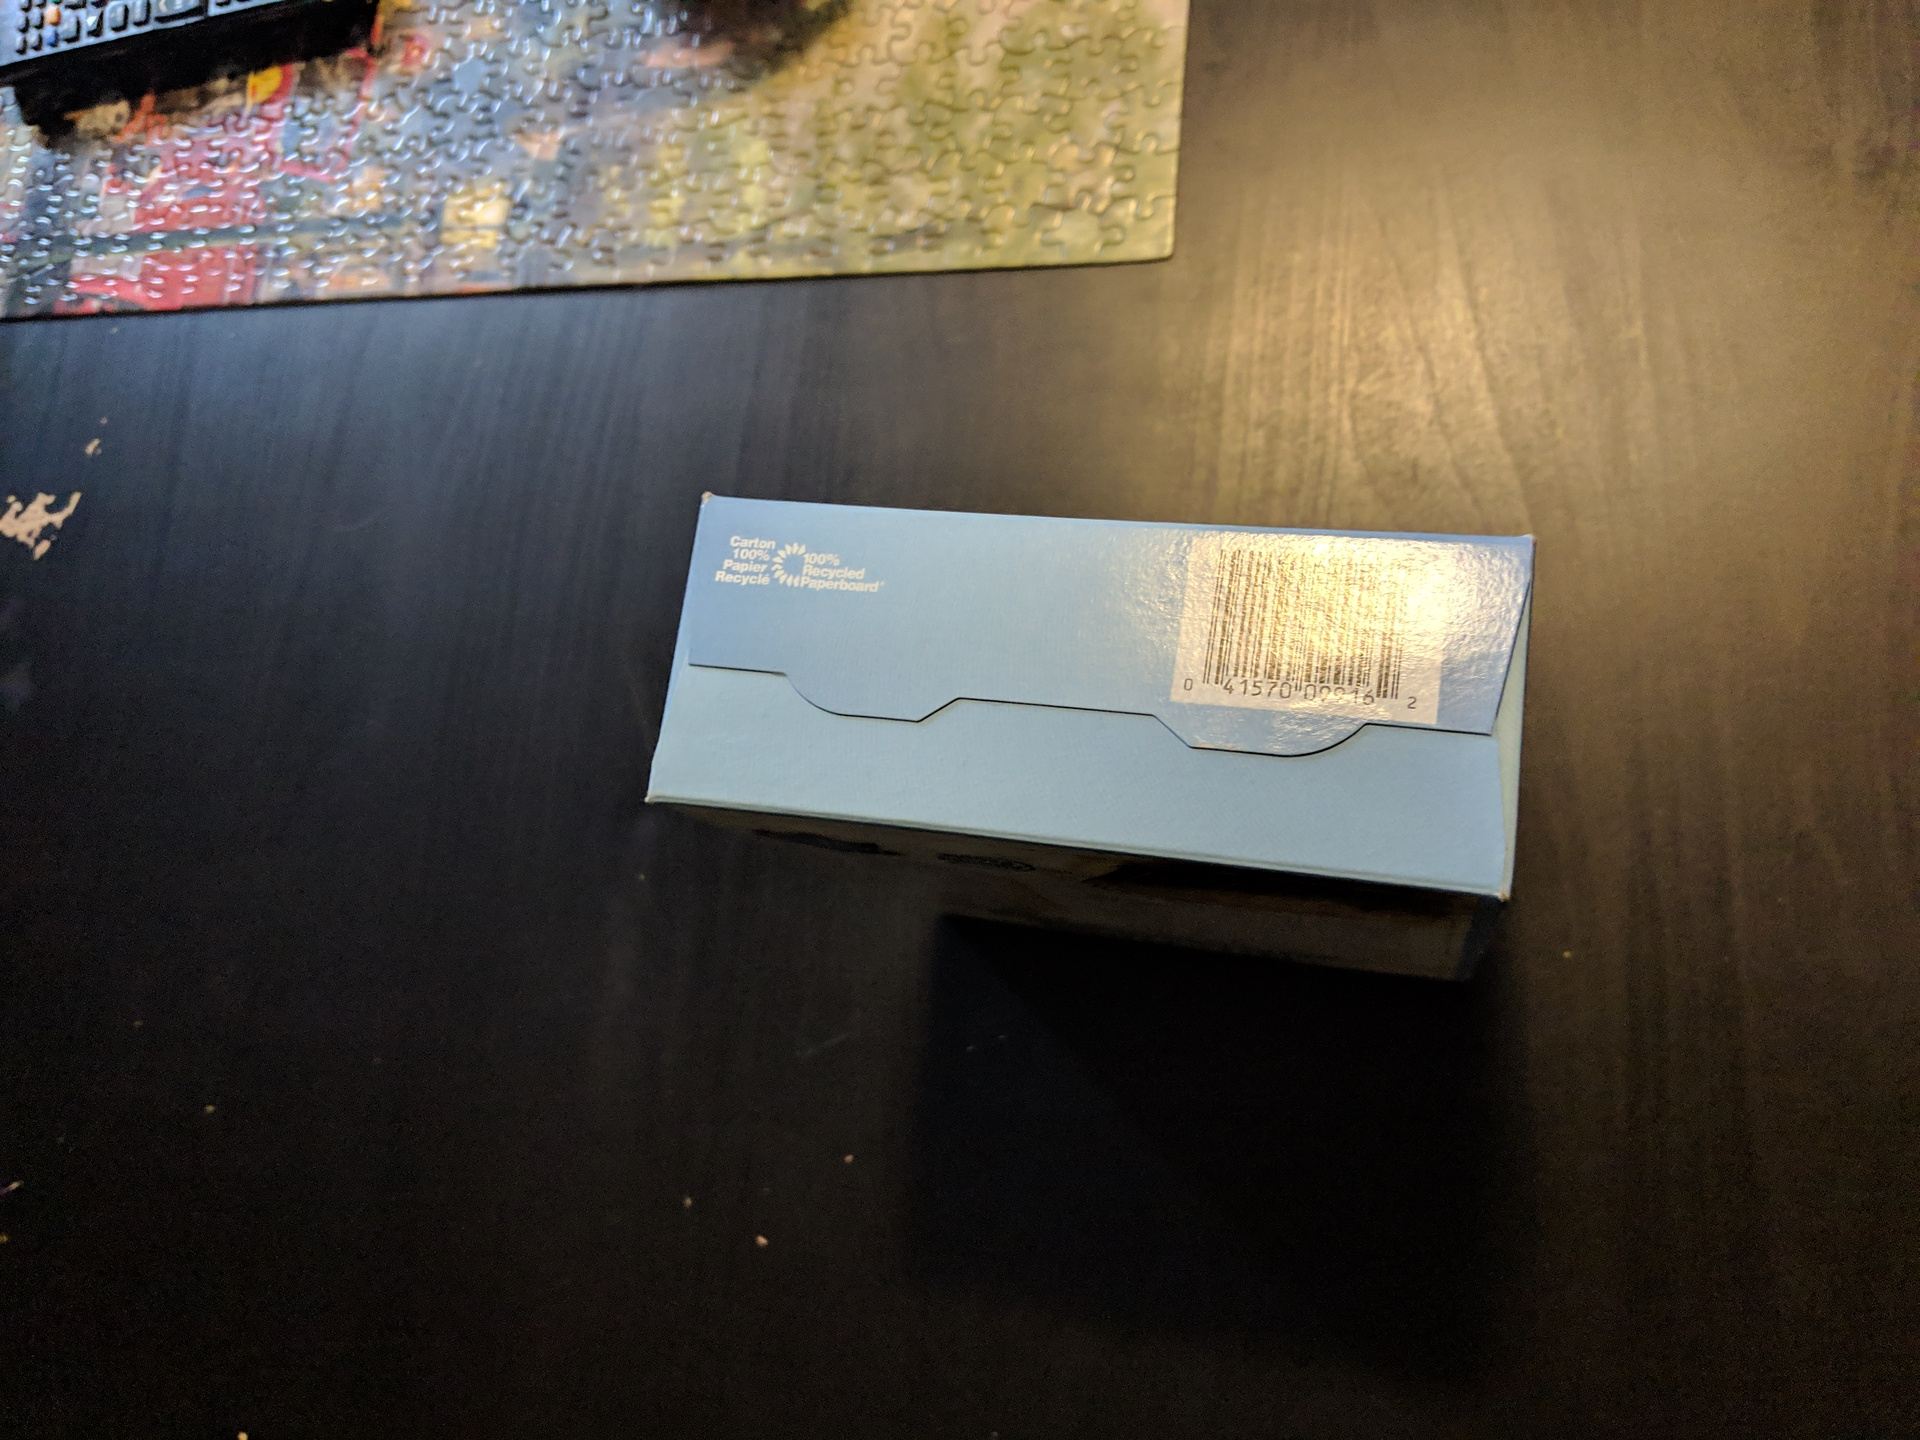blue_diamond_nut_thins_almond_seasalt: (691, 501, 1521, 942)
